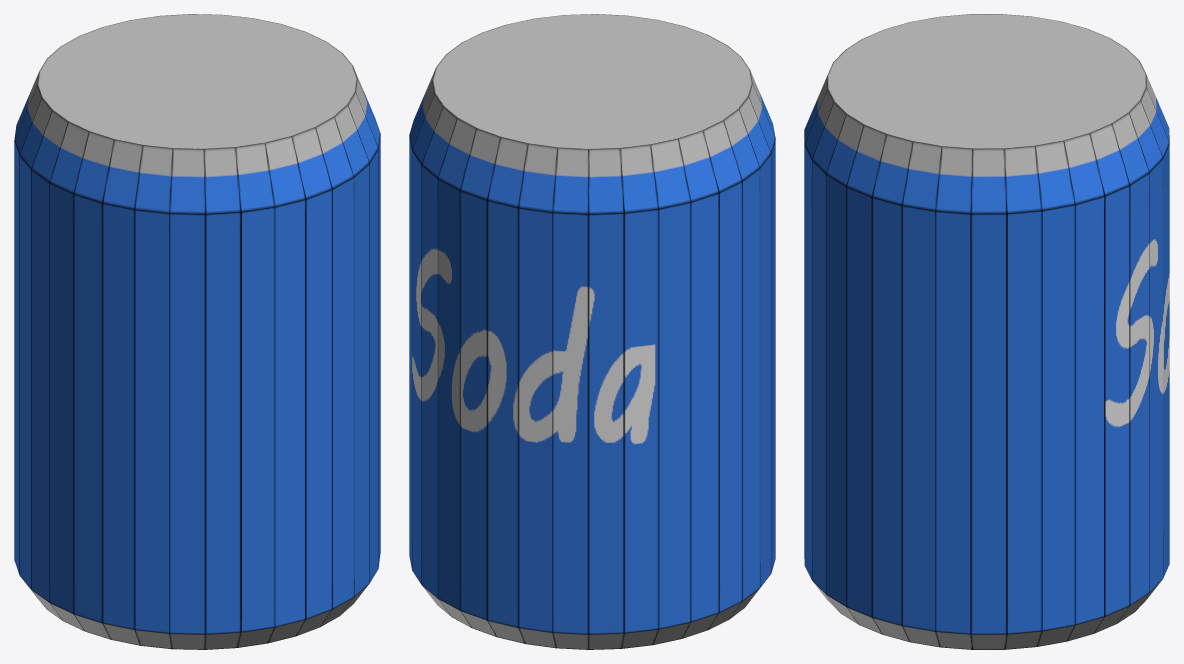
The model's file is can.obj.
3 renders of one model, left to right at view 1: azimuth 30°, elevation 25°; view 2: azimuth 150°, elevation 25°; view 3: azimuth 270°, elevation 25°, orthographic.
Visible parts, largest first — view 1: 缶; view 2: 缶; view 3: 缶.
Boxes of the visible parts, box(x1,y1,x2,y2) form: 缶: box(14, 14, 380, 649); 缶: box(409, 14, 775, 649); 缶: box(804, 14, 1169, 649).
Size of the model in its own units: 0.9962 by 1.5 by 0.9967.
